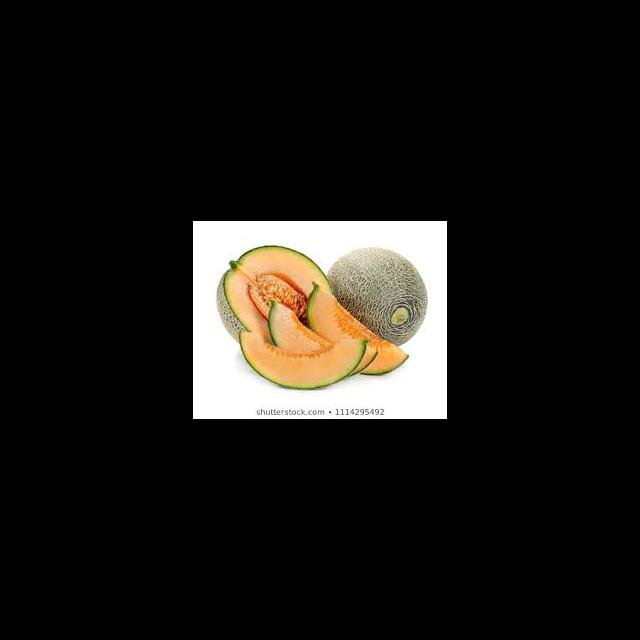Hami Melon: (218, 245, 332, 344), (308, 281, 410, 375), (239, 333, 369, 390)
